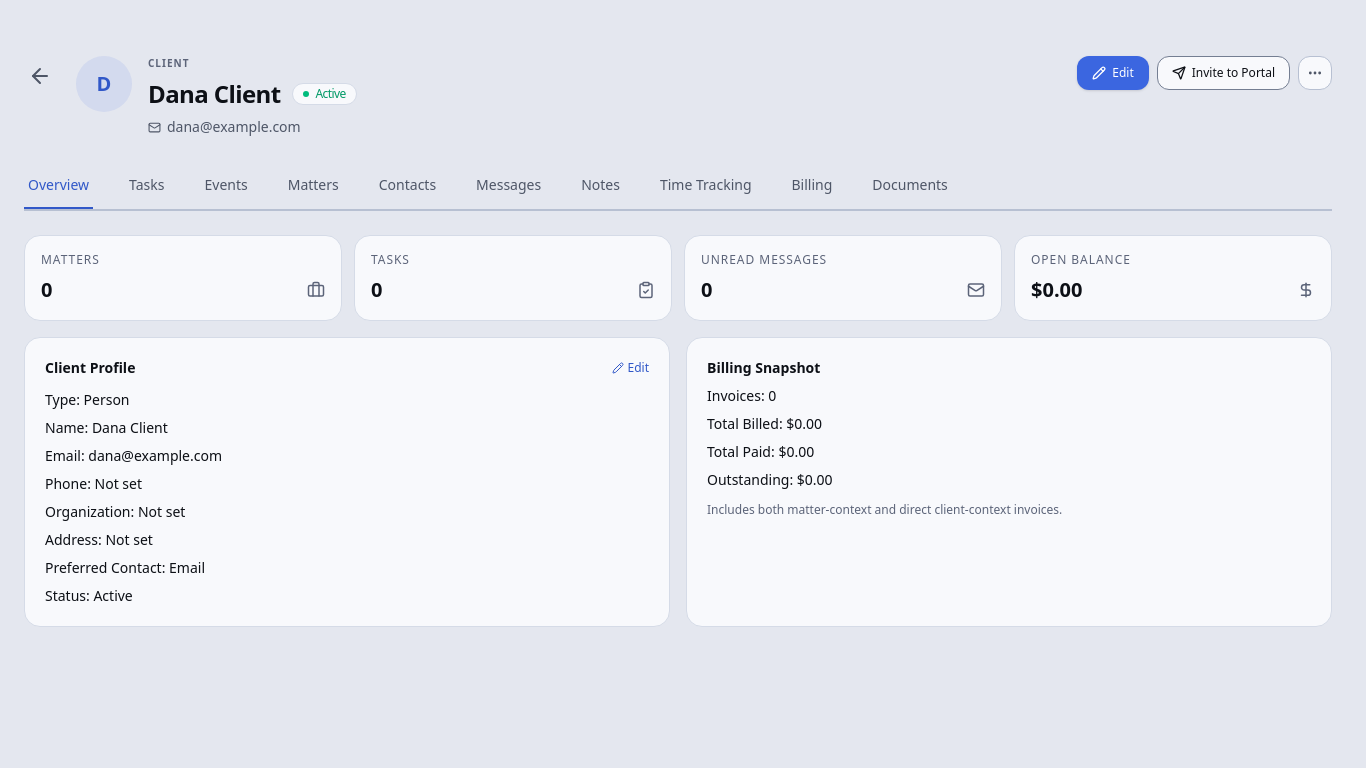
Test: portal invitation › shows the server refusal as a banner and keeps the client on screen
Expected: the heading "Dana Client Active" is shown, [148,77,357,110]
Click the button "Invite to Portal" at (1223, 73), box [1157,56,1290,90]
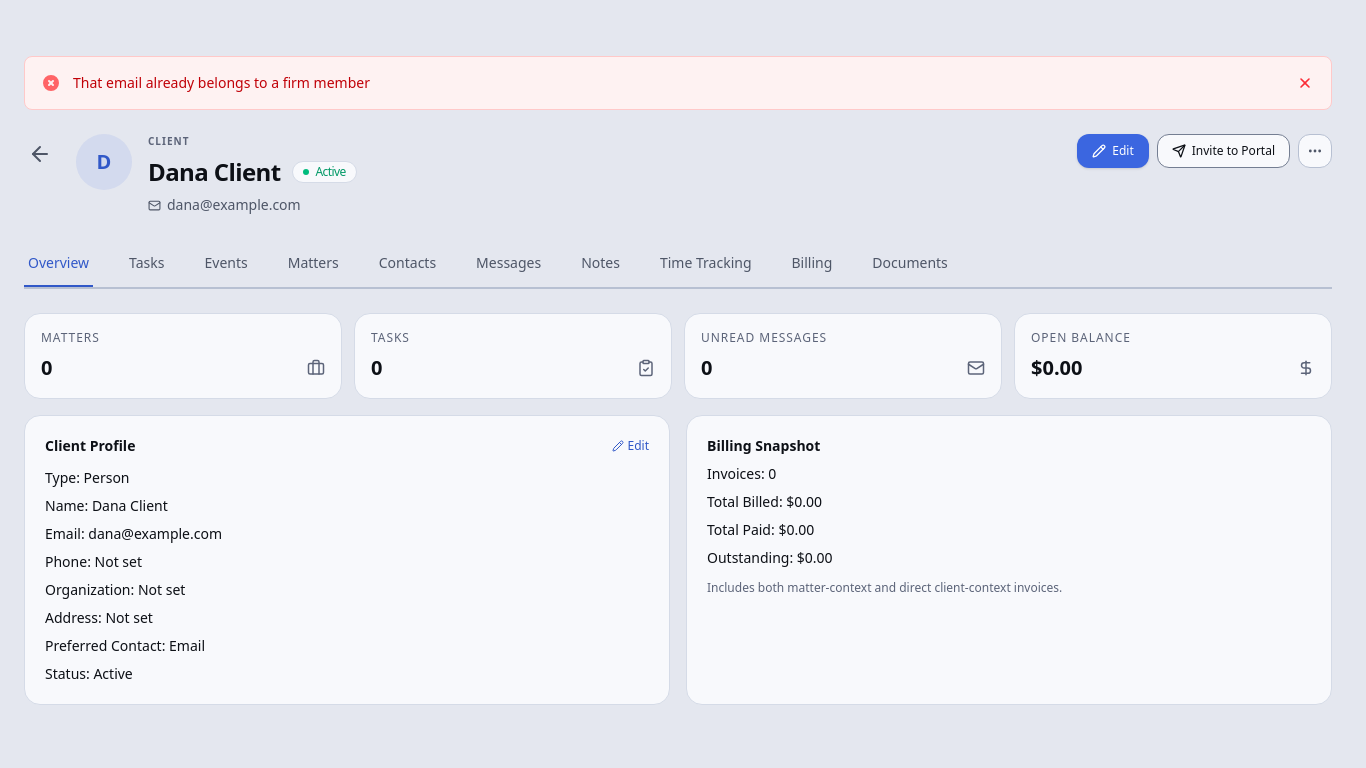
Expected: the heading "Dana Client Active" is shown, [148,155,357,188]
Result: the text "That email already belongs to a firm member" is shown at [73,73,370,92]
